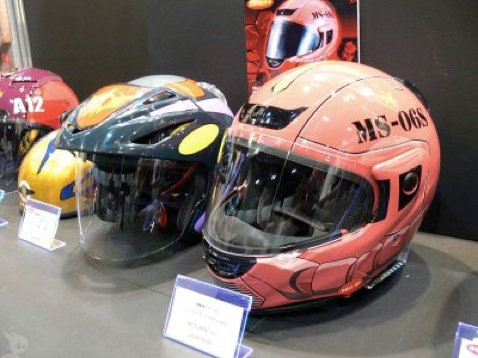helmet: (222, 68, 439, 306), (74, 68, 222, 234)
